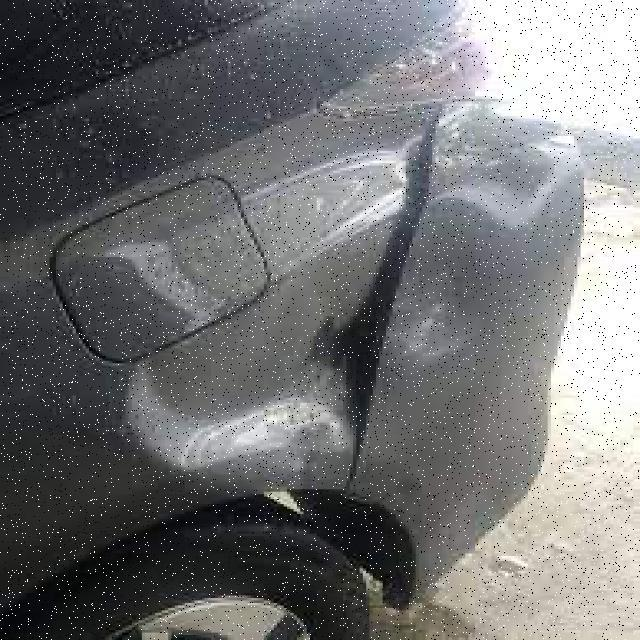quaterpanel-dent: (0, 118, 380, 638)
rear-bumper-dent: (380, 67, 591, 613)
